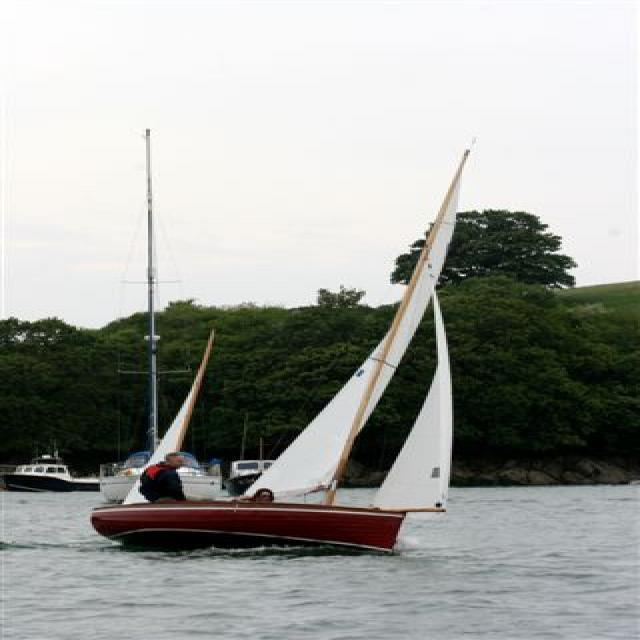Ship: (56, 128, 497, 563)
